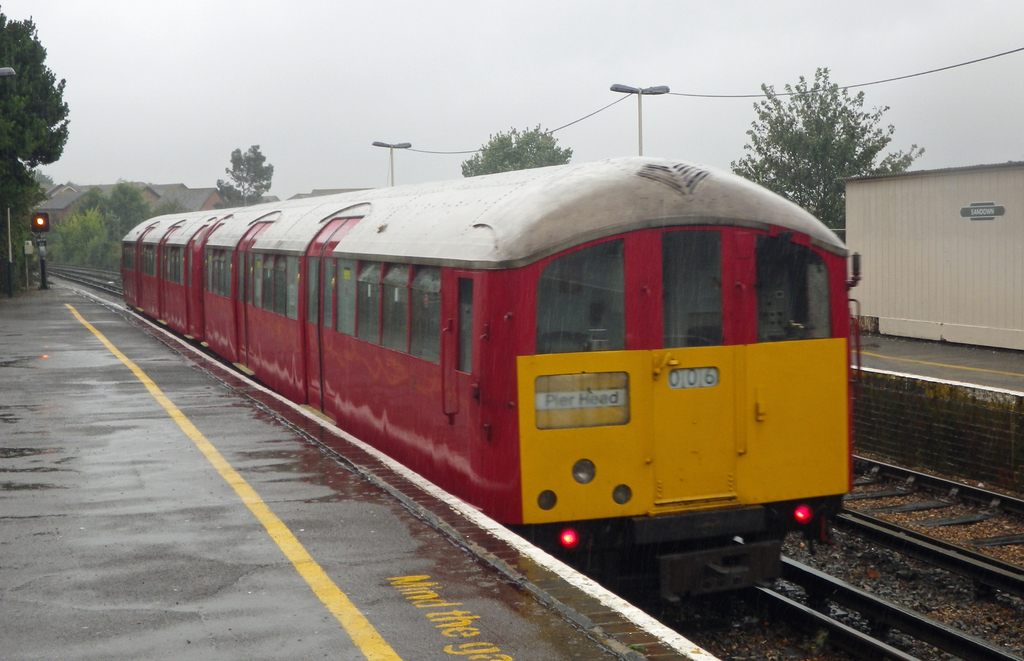train: (117, 156, 862, 613)
